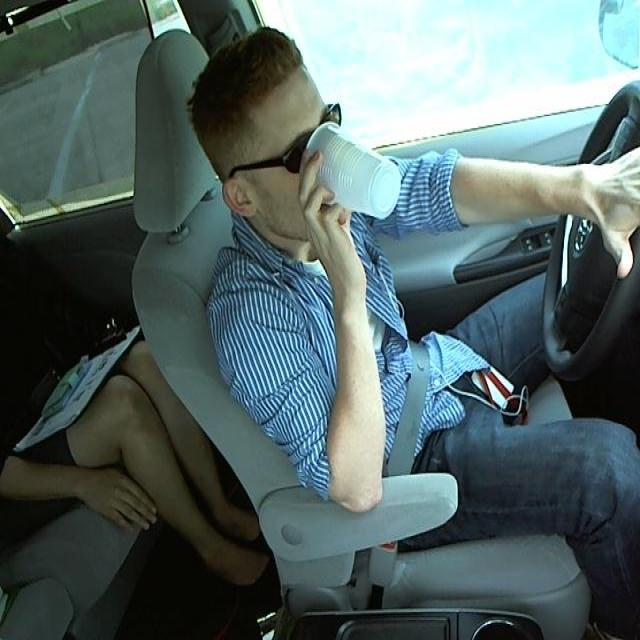Seatbelt: (302, 120, 401, 221)
